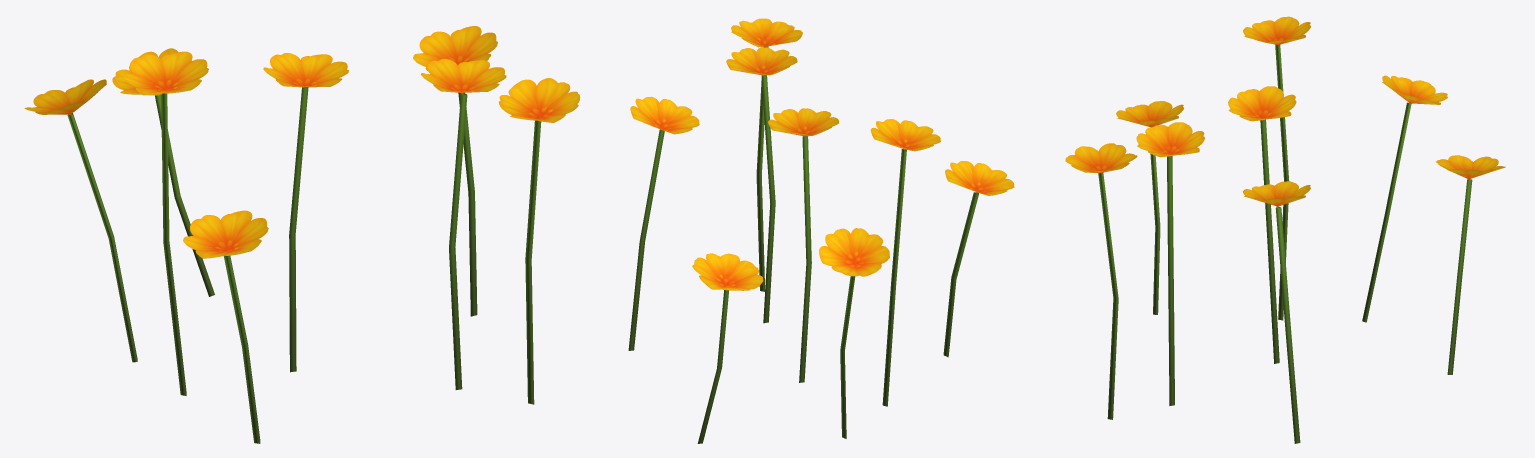
3 views of the same model, side by side, from view 1: azimuth 30°, elevation 25°; view 2: azimuth 150°, elevation 25°; view 3: azimuth 270°, elevation 25° (orthographic). The views are drawn at different scales.
Visible parts, largest first — view 1: pl-flowers-yellow; view 2: pl-flowers-yellow; view 3: pl-flowers-yellow.
Boxes of the visible parts, x1=… form: pl-flowers-yellow: x1=24, y1=26, x2=579, y2=443; pl-flowers-yellow: x1=628, y1=18, x2=1014, y2=443; pl-flowers-yellow: x1=1065, y1=16, x2=1505, y2=443.
Size of the model in its own units: 0.6941 by 0.5755 by 0.8343.
Materials: 1 (1 with a texture image).
